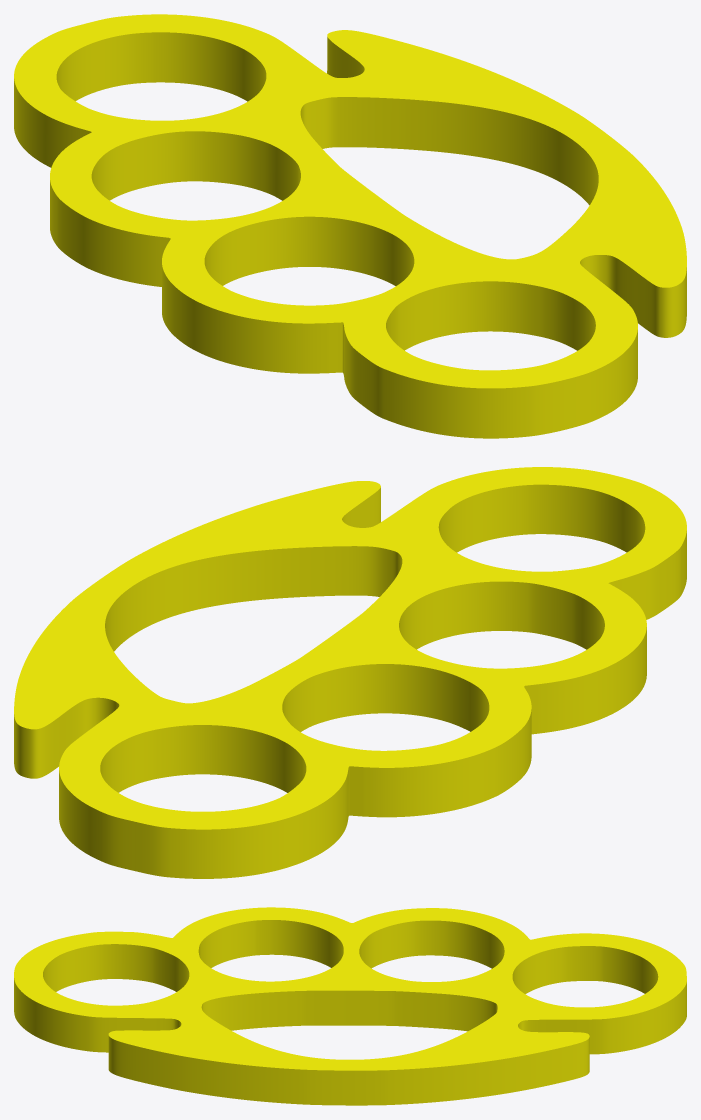
The model's file is 巨人杀手.fbx.
The picture shows the model from 3 angles, top to bottom: view 1: azimuth 30°, elevation 25°; view 2: azimuth 150°, elevation 25°; view 3: azimuth 270°, elevation 25°; orthographic projection. The views are drawn at different scales.
Parts seen in each view (by area): view 1: Curve.001; view 2: Curve.001; view 3: Curve.001.
Boxes of the visible parts, x1,y1,x2,y2 form: Curve.001: (14,14,686,438); Curve.001: (14,467,686,878); Curve.001: (14,907,686,1105).
Bounding box in the file's own units: 4131 × 422 × 7195.
